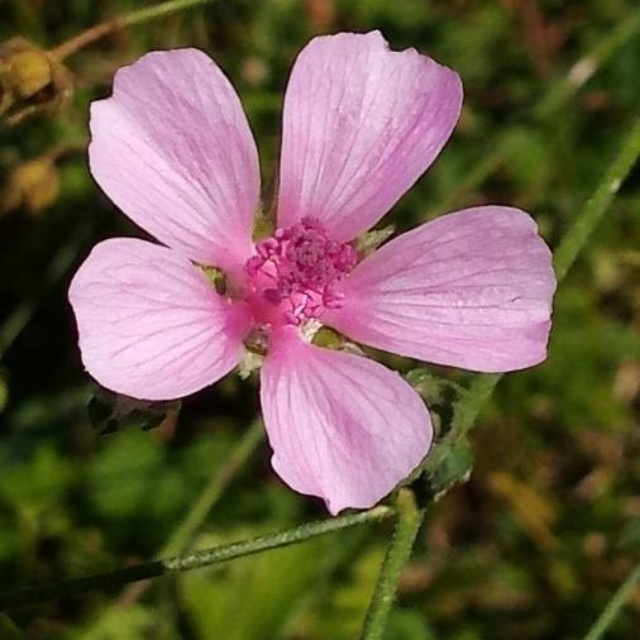obstacle: (94, 70, 559, 598)
